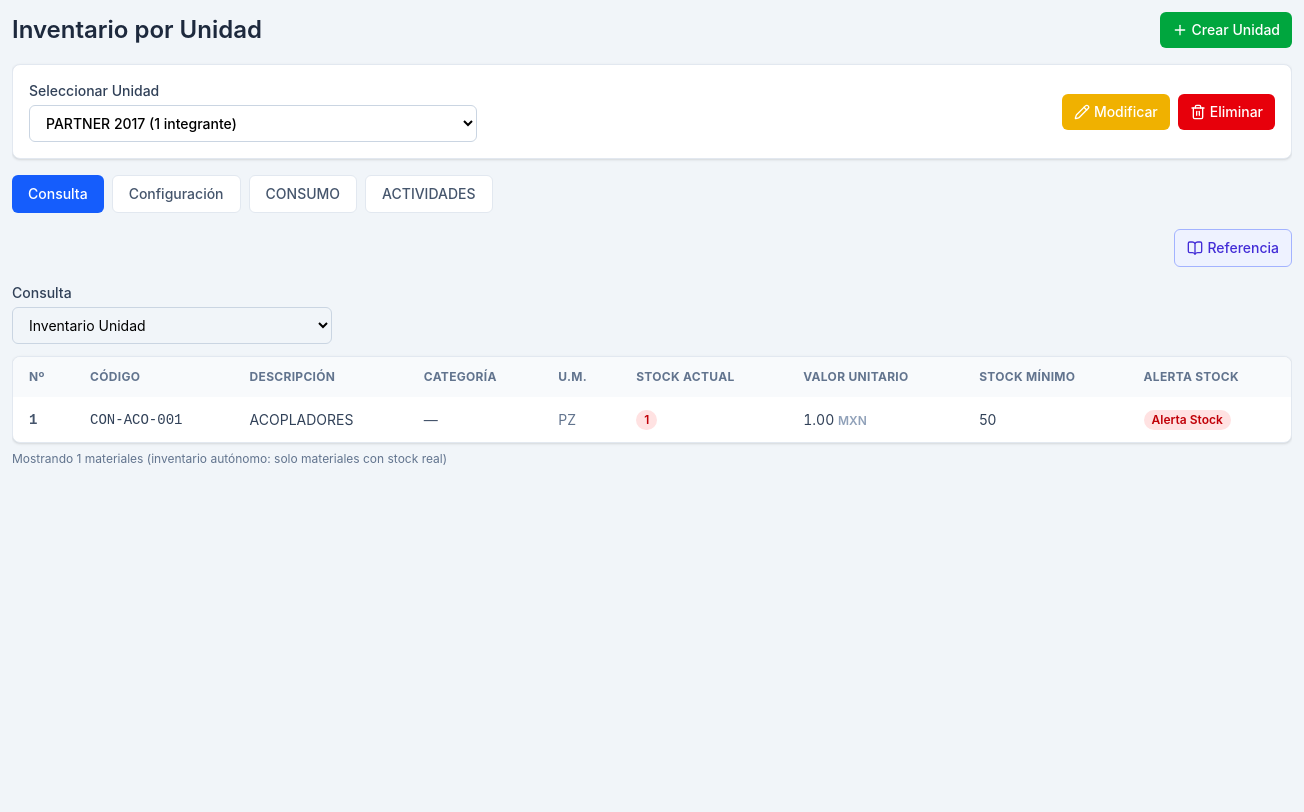
it: botón «Referencia» (REQ-REF-001) › presente en Consulta, alterna el panel y actualiza aria-expanded
Step 1. Click the button "Referencia" → (1233,248), box x1=1174 y1=229 x2=1292 y2=267
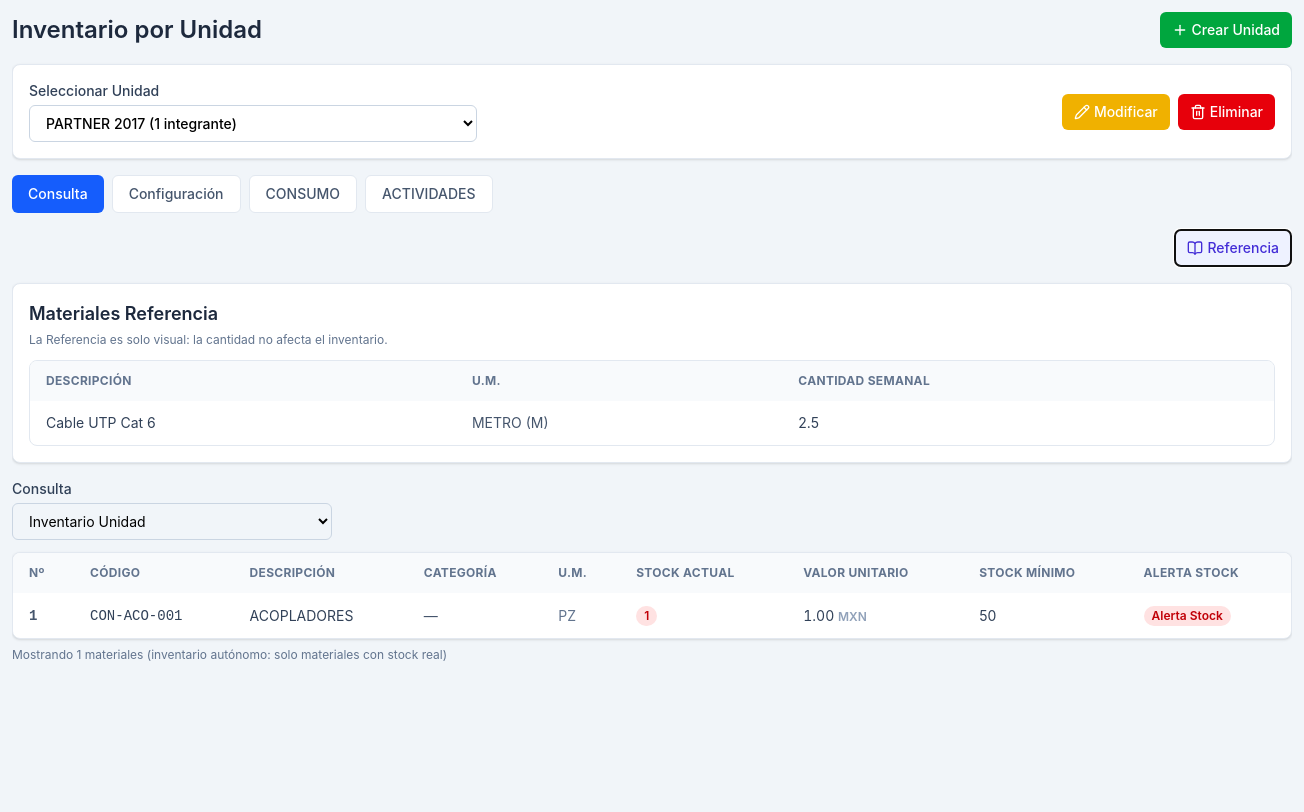
Check: the heading "Materiales Referencia" is shown, box x1=29 y1=300 x2=218 y2=328
Step 2. Click the button "Referencia" → (1233,248), box x1=1174 y1=229 x2=1292 y2=267
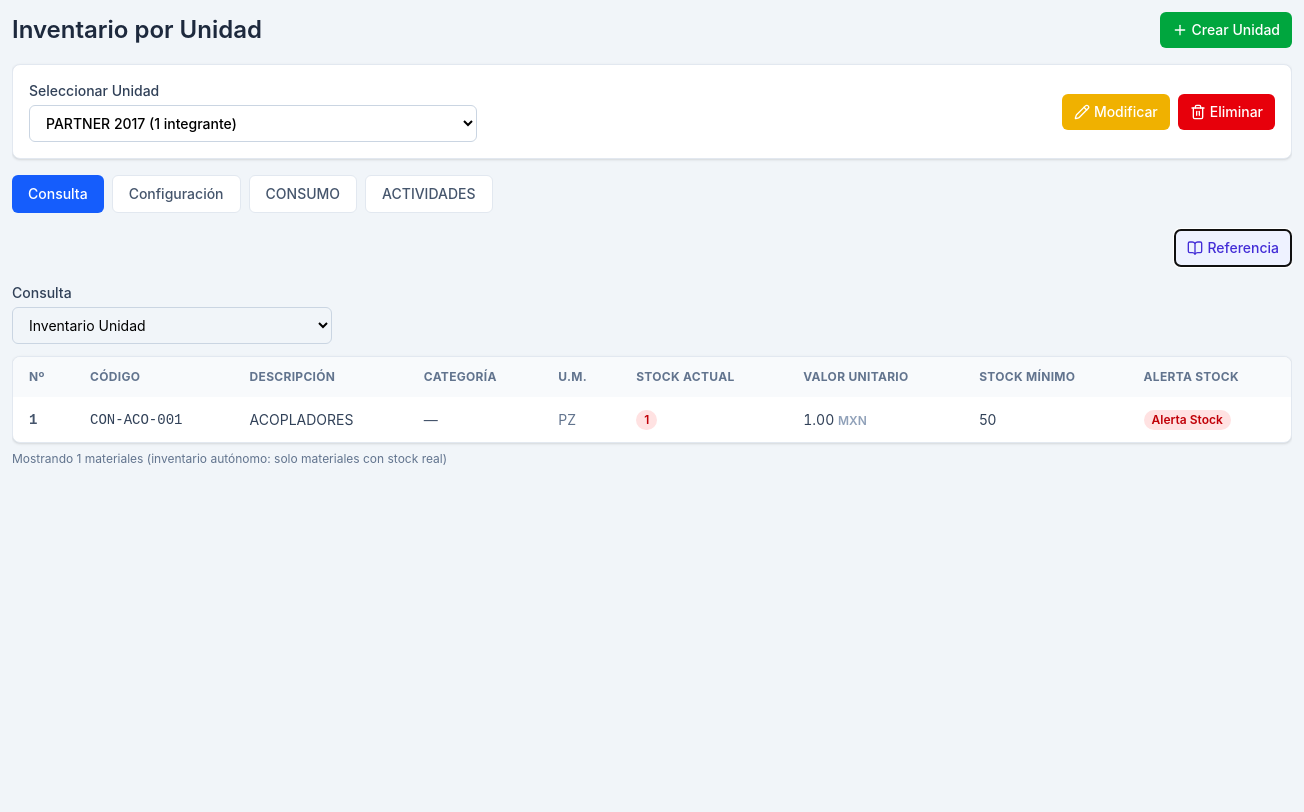
Check: the heading "Materiales Referencia" is gone
